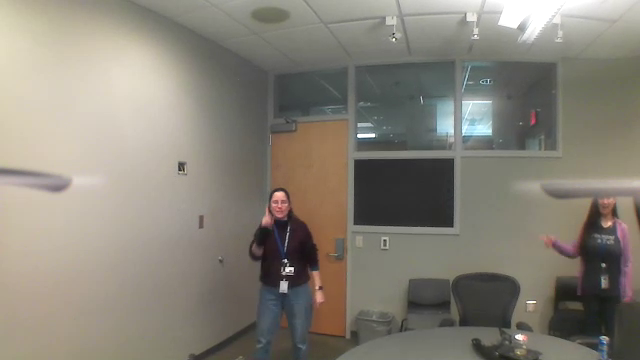up: (258, 204, 279, 233)
